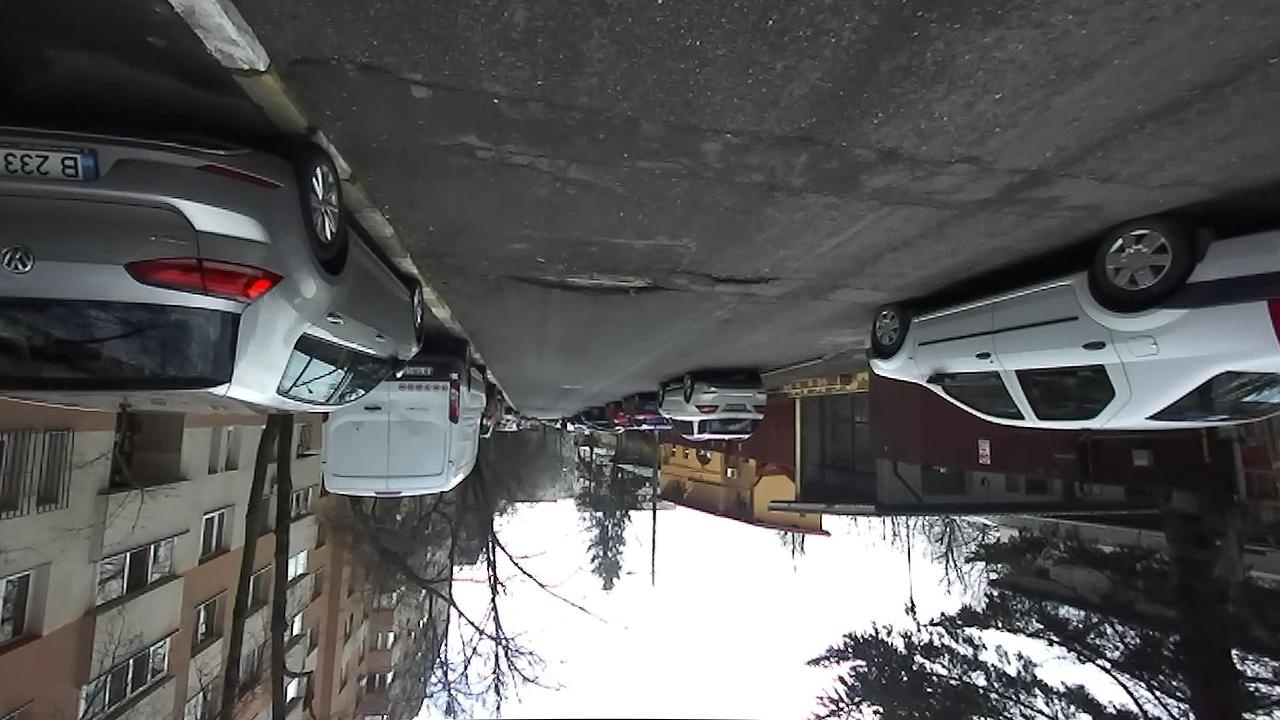pothole: (292, 44, 461, 97), (500, 264, 673, 301), (696, 270, 781, 287)
